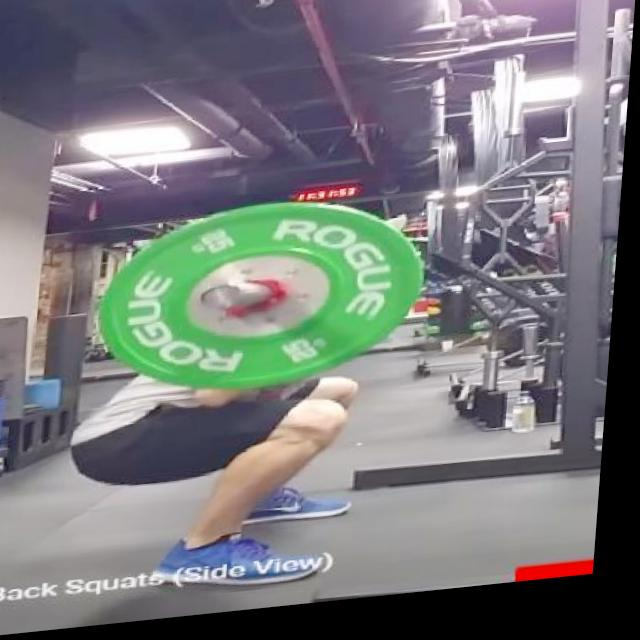barbell: (201, 284, 267, 320)
